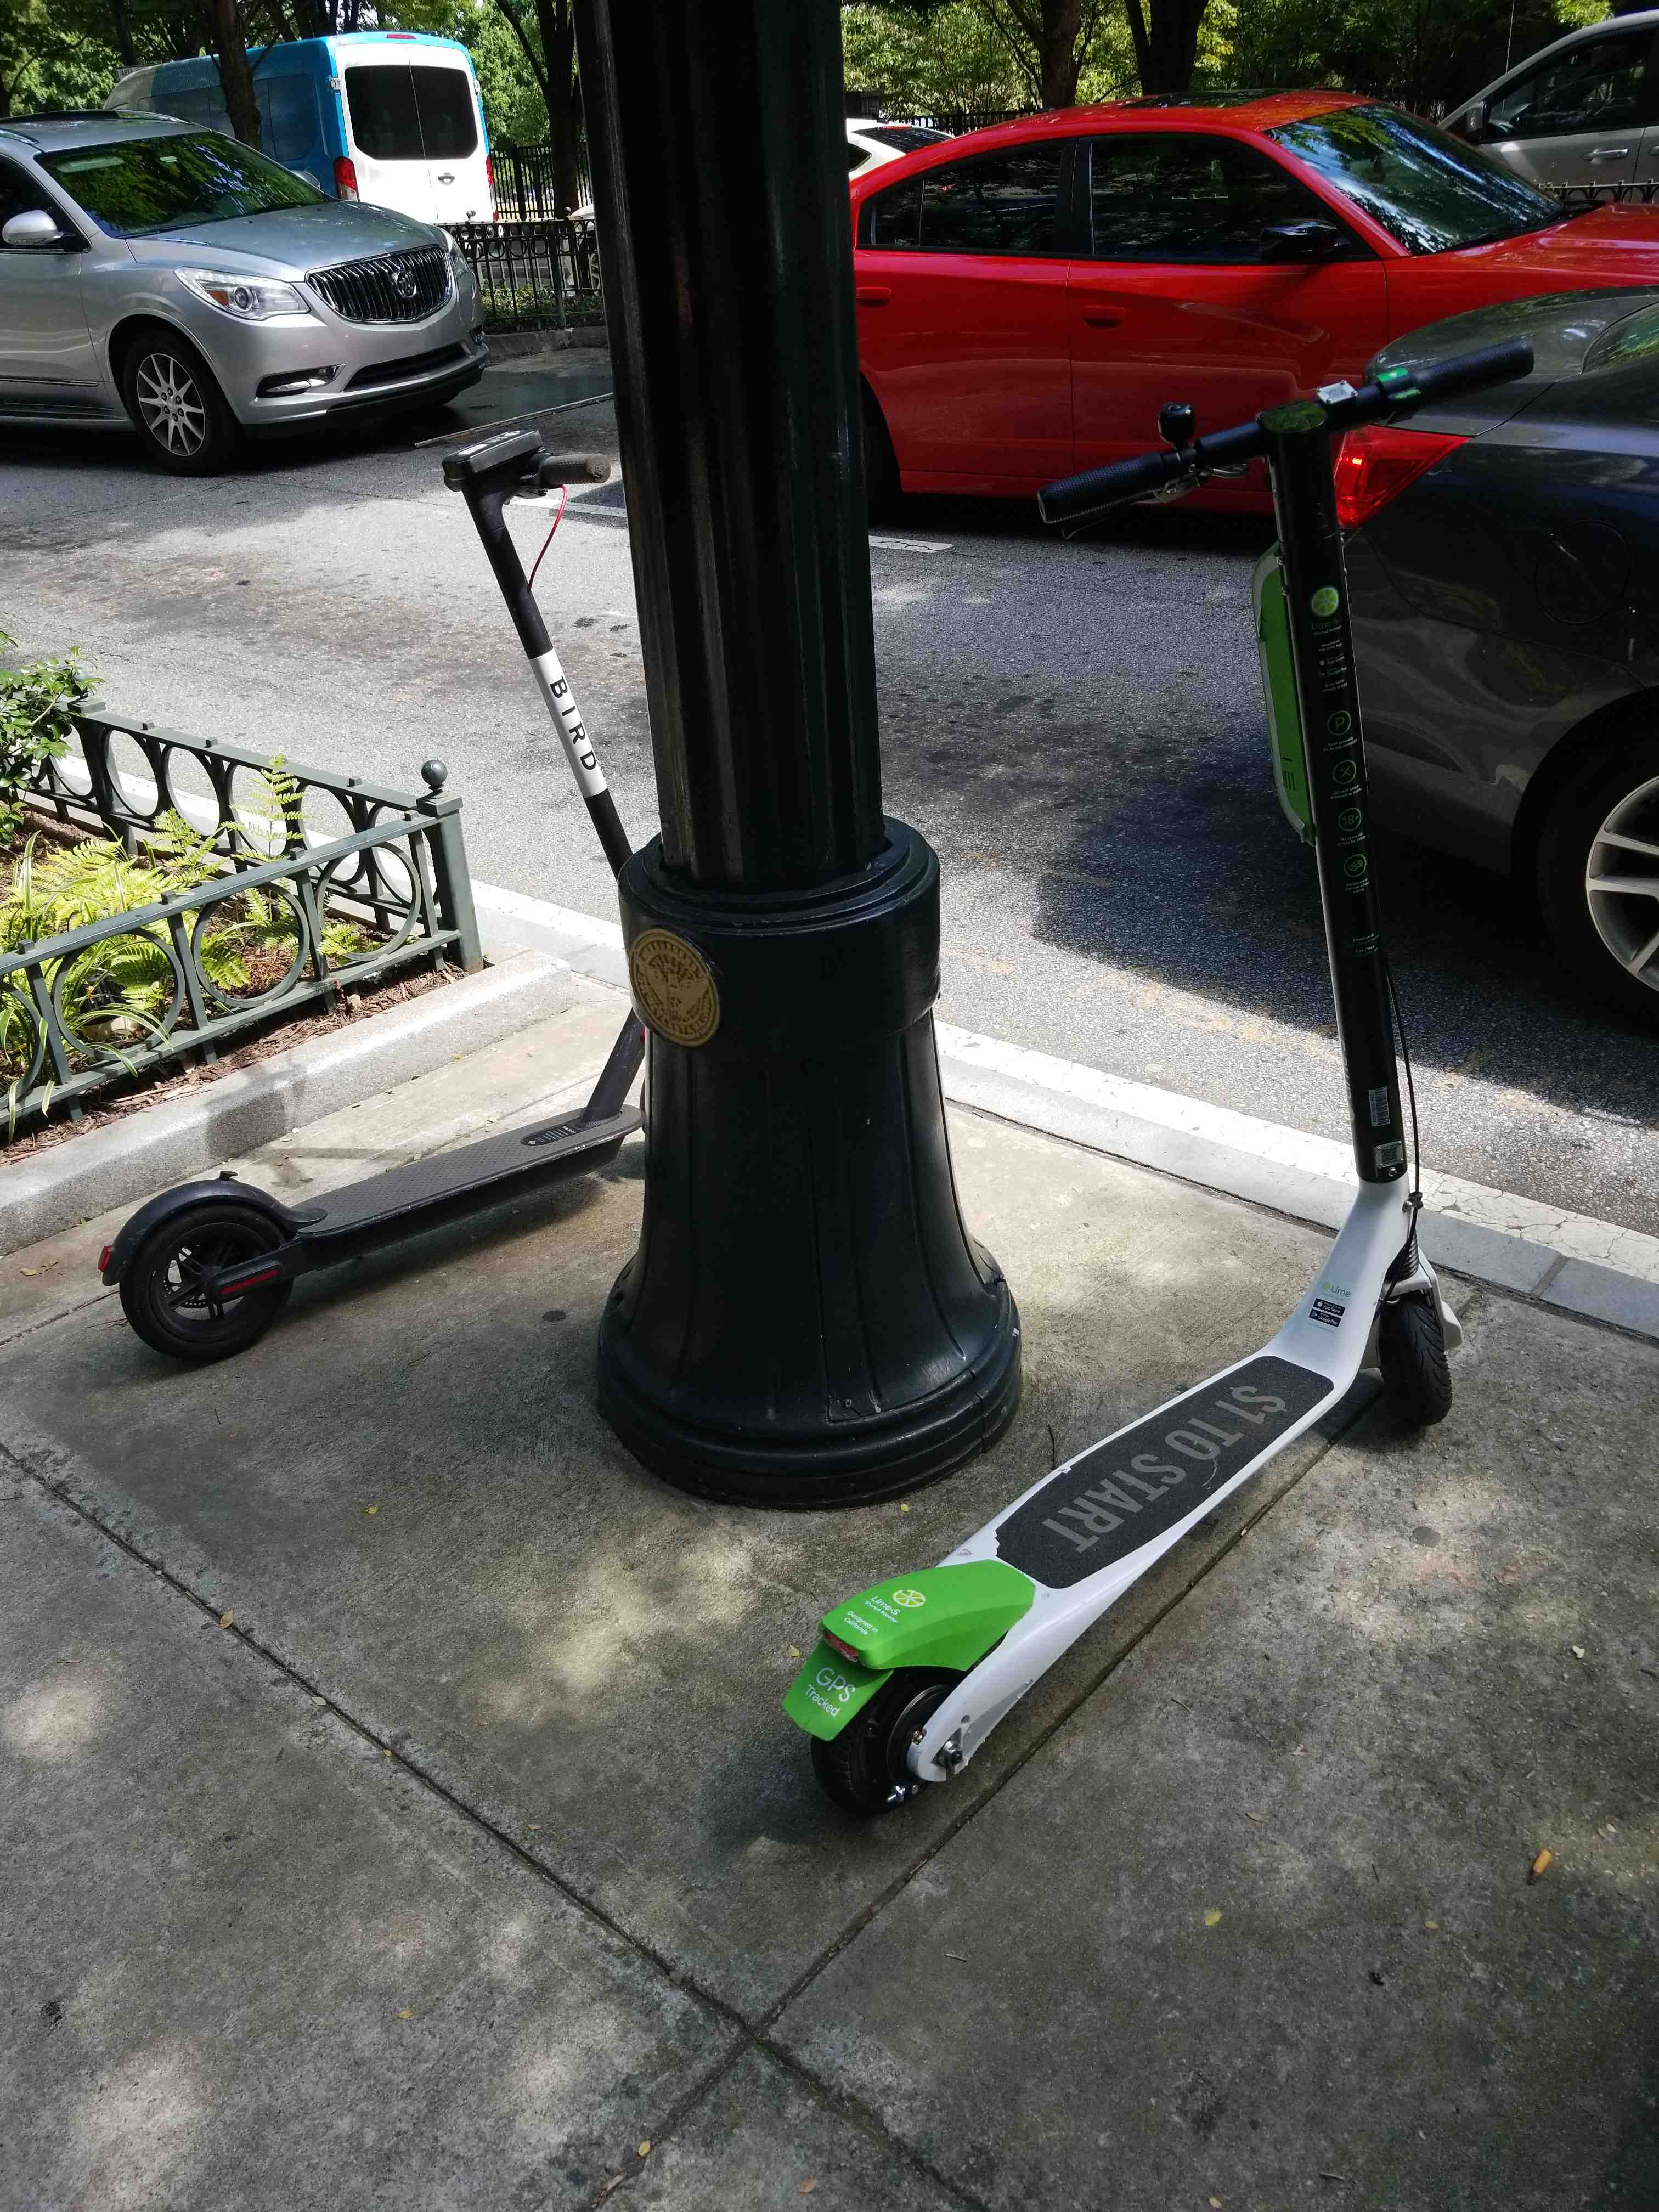scooter: (779, 352, 1542, 1822)
